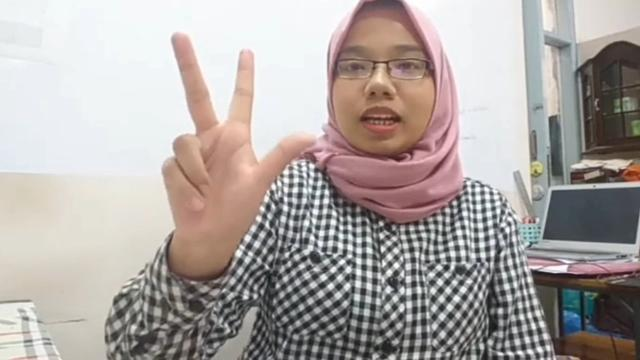K: (158, 30, 316, 250)
